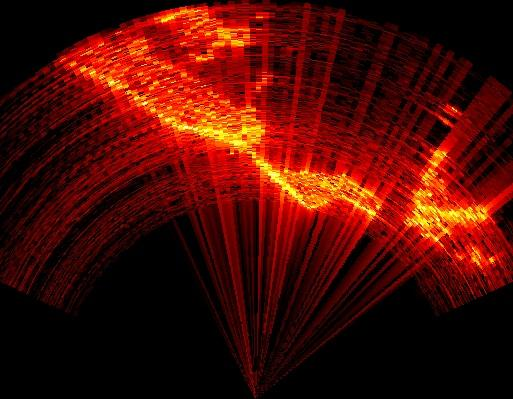shipwreck: (58, 34, 383, 219), (405, 150, 491, 241), (206, 18, 248, 49), (457, 244, 498, 267)
